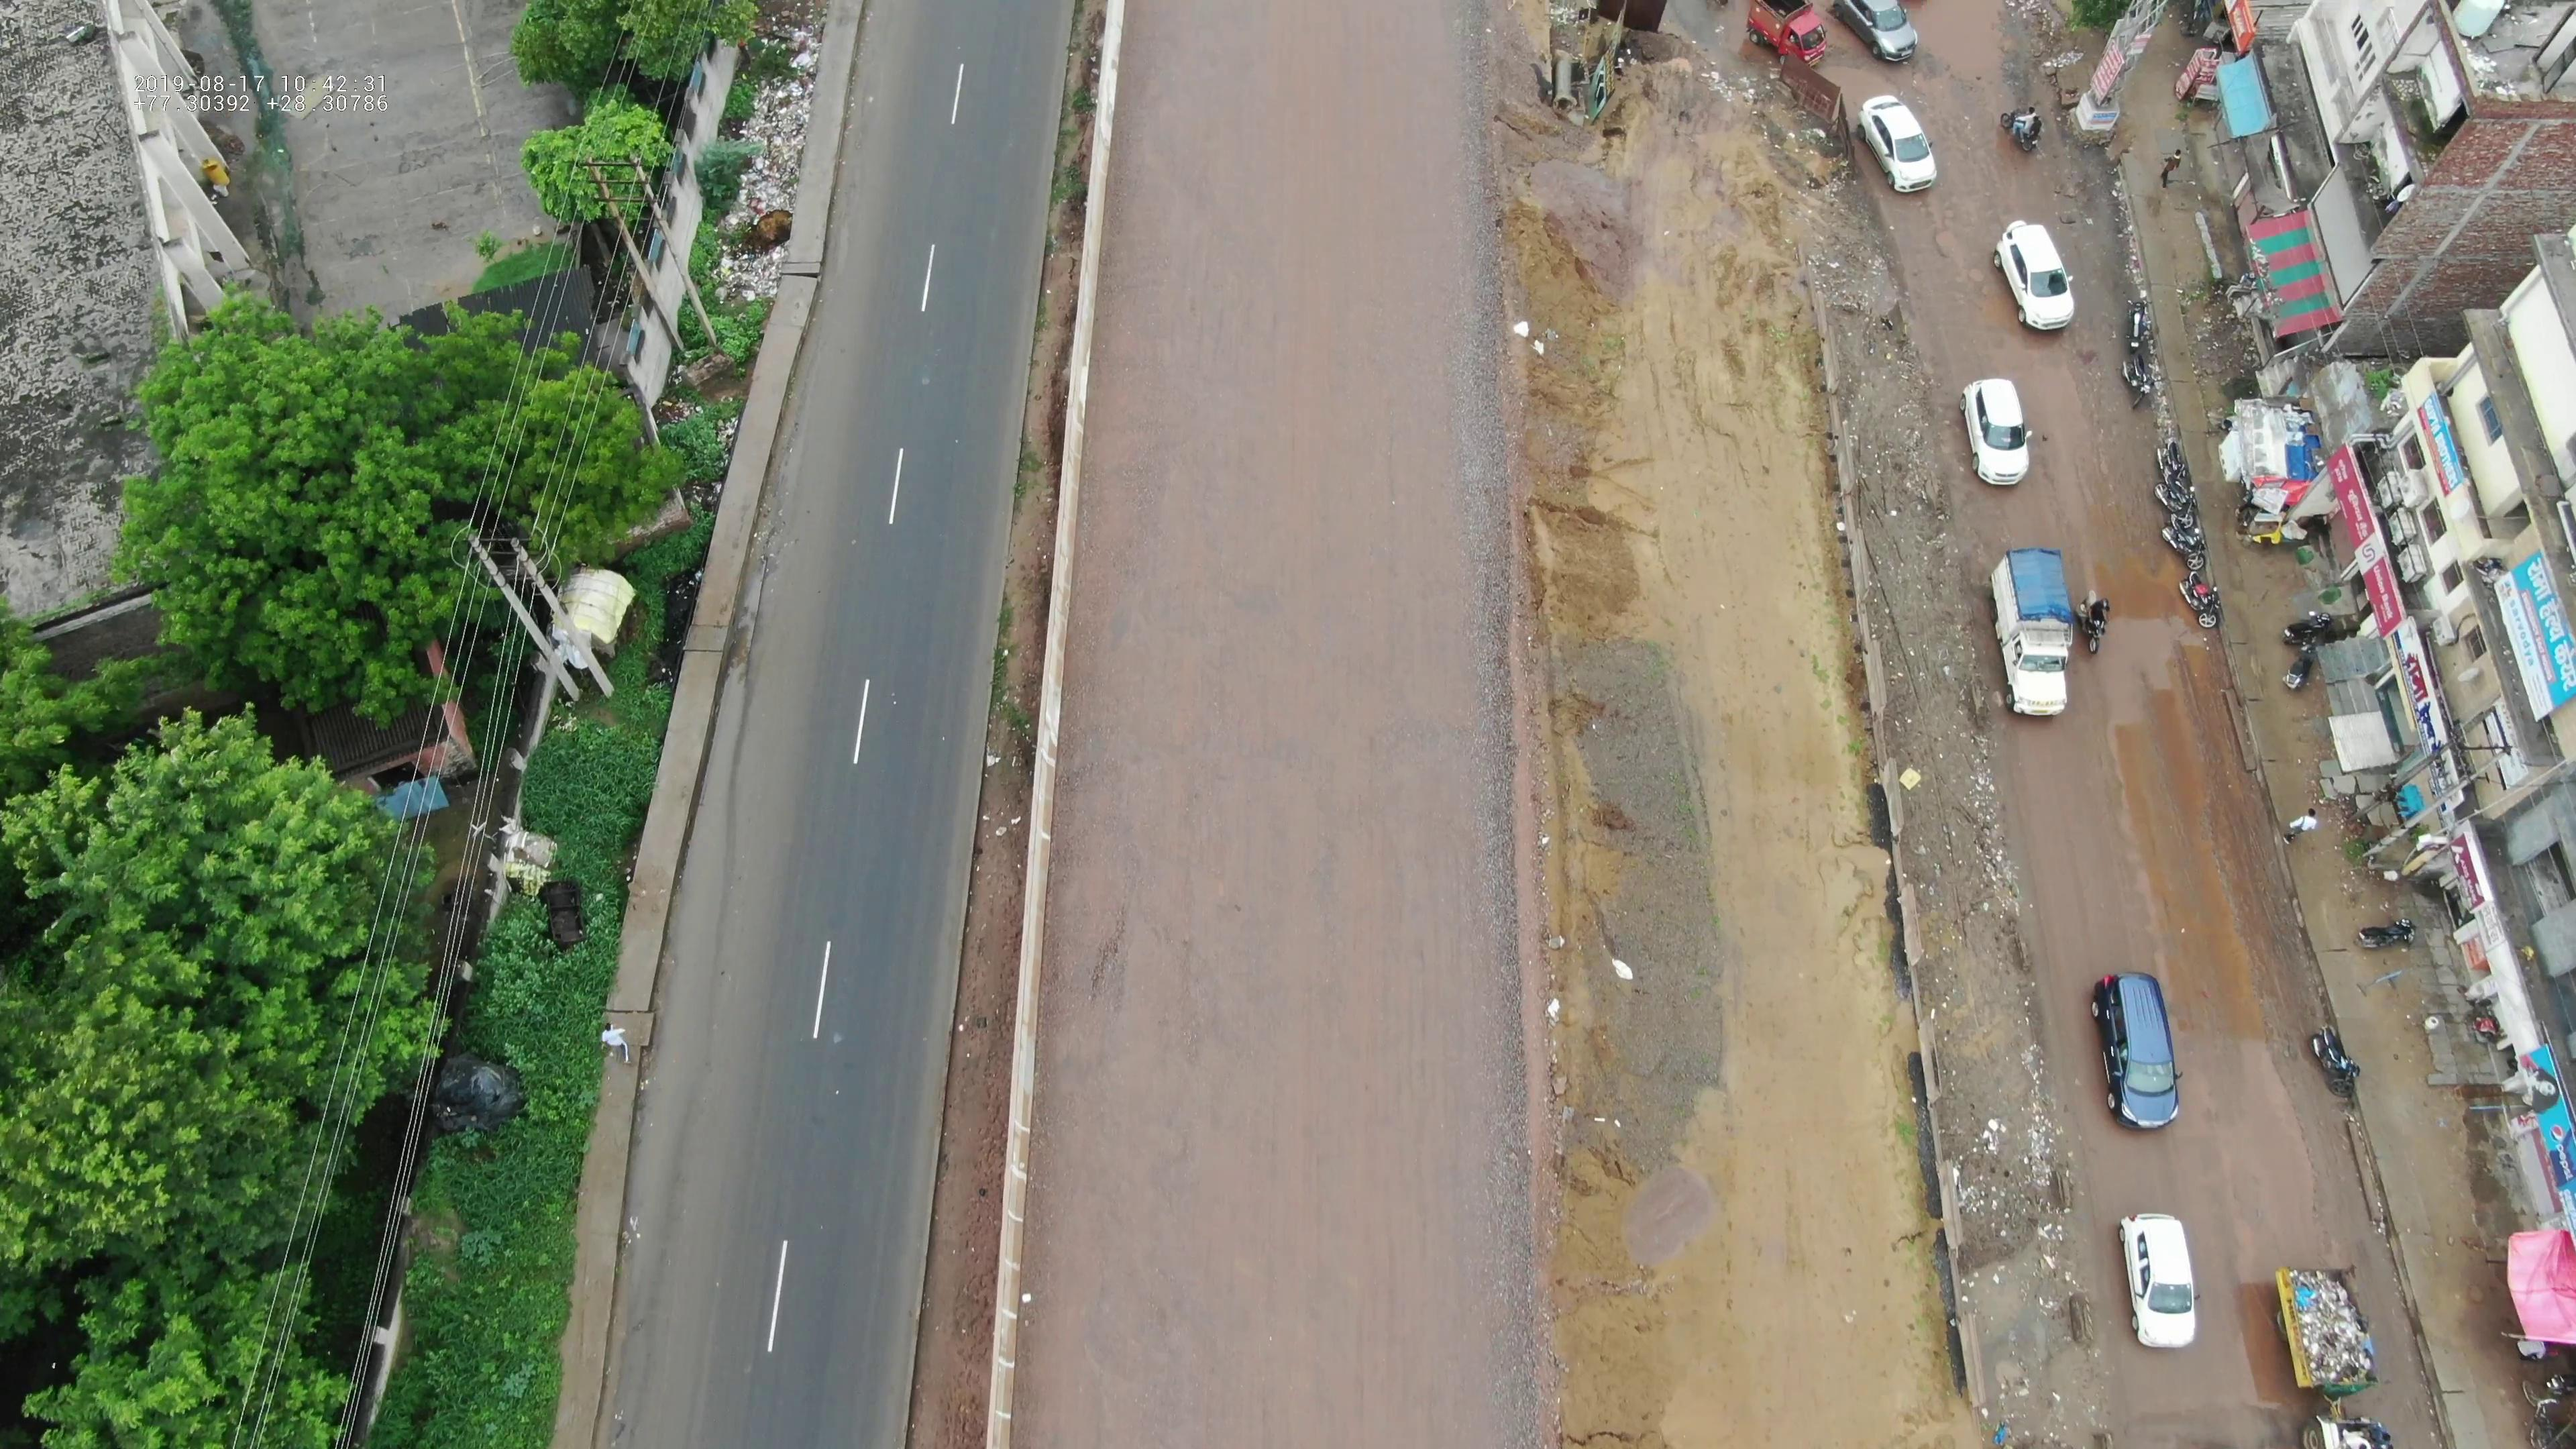Muddy_road: (1810, 274, 1959, 617), (1907, 778, 2031, 1062)
Road_side_garbage: (711, 16, 814, 301)
